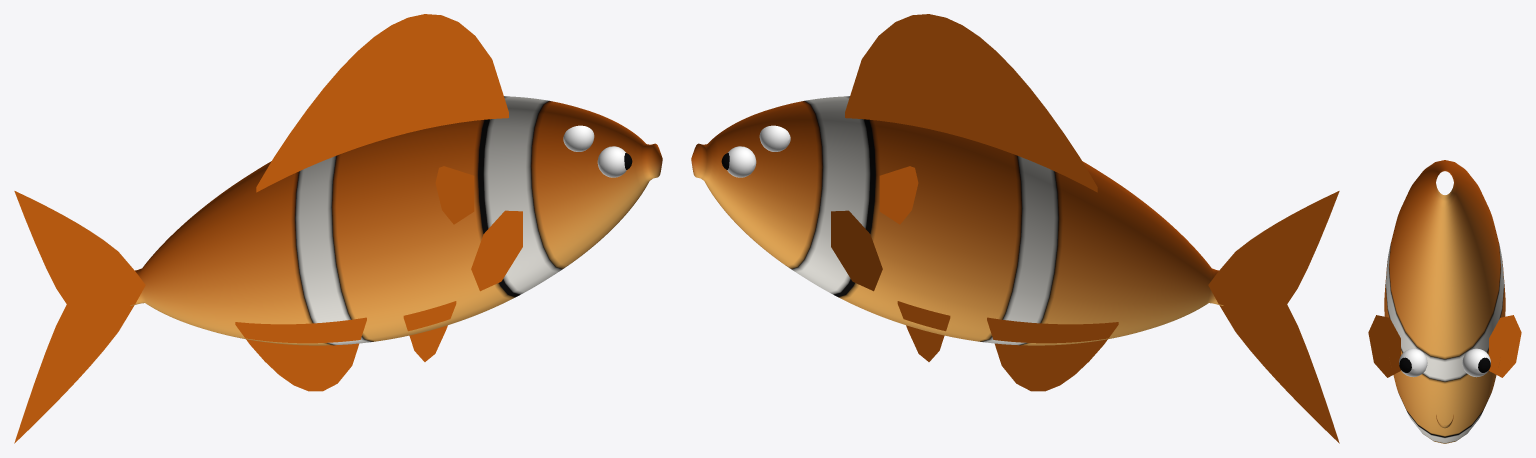
The model's file is fish.glb.
The picture shows the model from 3 angles, left to right: view 1: azimuth 30°, elevation 25°; view 2: azimuth 150°, elevation 25°; view 3: azimuth 270°, elevation 25°; orthographic projection. The views are drawn at different scales.
Parts seen in each view (by area): view 1: body, dorsal, tail, anal, pectoral1, pectoral-1, pelvic, eye1, eye-1; view 2: body, dorsal, tail, anal, pectoral-1, pectoral1, pelvic, eye-1, eye1; view 3: body, pectoral1, pectoral-1, eye1, eye-1.
Boxes of the visible parts, bbox=[...] form: body: bbox=[130, 96, 662, 345]; dorsal: bbox=[256, 14, 508, 192]; tail: bbox=[14, 191, 145, 443]; anal: bbox=[235, 317, 366, 391]; pectoral1: bbox=[471, 210, 522, 291]; pectoral-1: bbox=[435, 166, 474, 224]; pelvic: bbox=[403, 301, 456, 361]; eye1: bbox=[597, 146, 626, 177]; eye-1: bbox=[563, 125, 594, 151]; body: bbox=[691, 96, 1223, 345]; dorsal: bbox=[845, 14, 1097, 192]; tail: bbox=[1208, 191, 1339, 443]; anal: bbox=[987, 317, 1118, 391]; pectoral-1: bbox=[831, 210, 882, 291]; pectoral1: bbox=[879, 166, 918, 224]; pelvic: bbox=[897, 301, 950, 361]; eye-1: bbox=[727, 146, 756, 177]; eye1: bbox=[759, 125, 790, 151]; body: bbox=[1384, 160, 1505, 443]; pectoral1: bbox=[1368, 315, 1400, 377]; pectoral-1: bbox=[1489, 315, 1521, 377]; eye1: bbox=[1399, 348, 1427, 377]; eye-1: bbox=[1462, 348, 1490, 377].
Size of the model in its own units: 1.23 by 0.6405 by 0.278.
